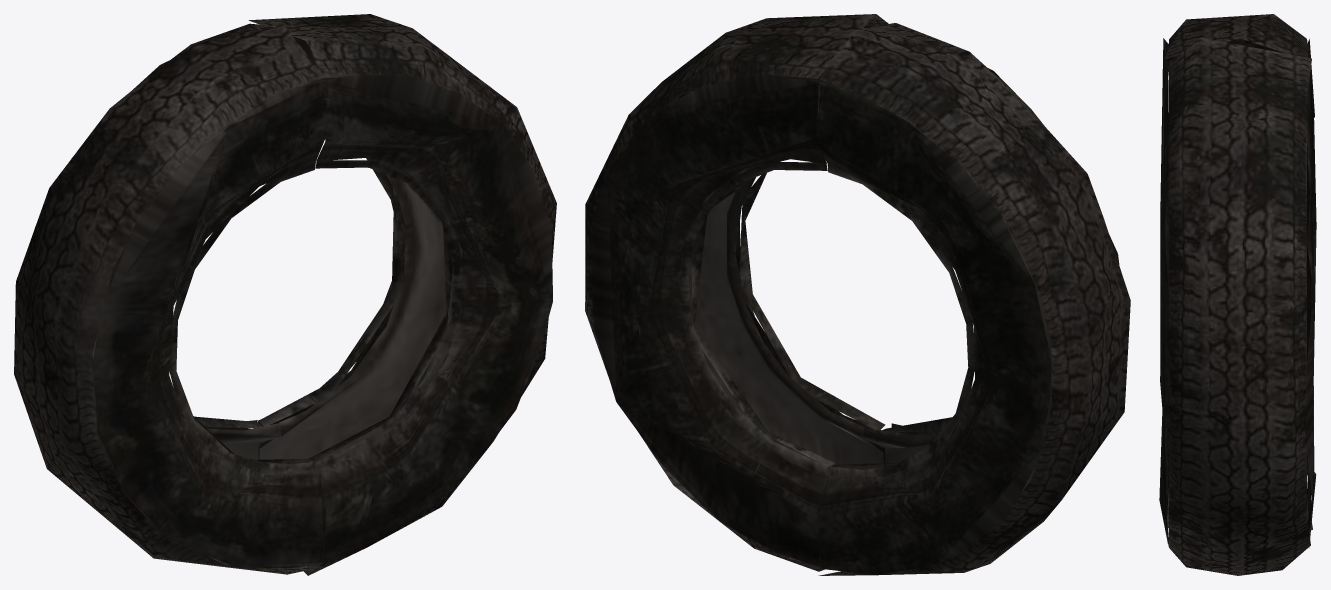
File: tyre.glb
3 views of the same model, side by side, from view 1: azimuth 30°, elevation 25°; view 2: azimuth 150°, elevation 25°; view 3: azimuth 270°, elevation 25° (orthographic). The views are drawn at different scales.
Visible parts, largest first — view 1: tyre; view 2: tyre; view 3: tyre.
Part boxes in pixels (box(x1,y1,x2,y2)): tyre: box(14, 14, 556, 575); tyre: box(585, 14, 1130, 575); tyre: box(1159, 14, 1316, 575).
Bounding box in the file's own units: 0.5978 × 0.6086 × 0.169.
1 material, 1 textured.
